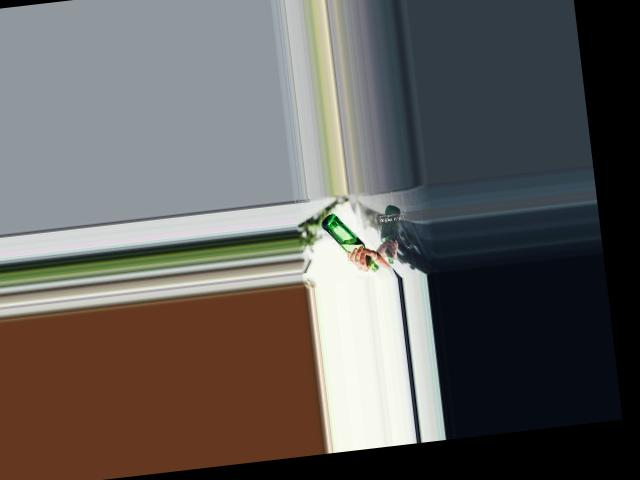beer: (320, 208, 380, 275)
